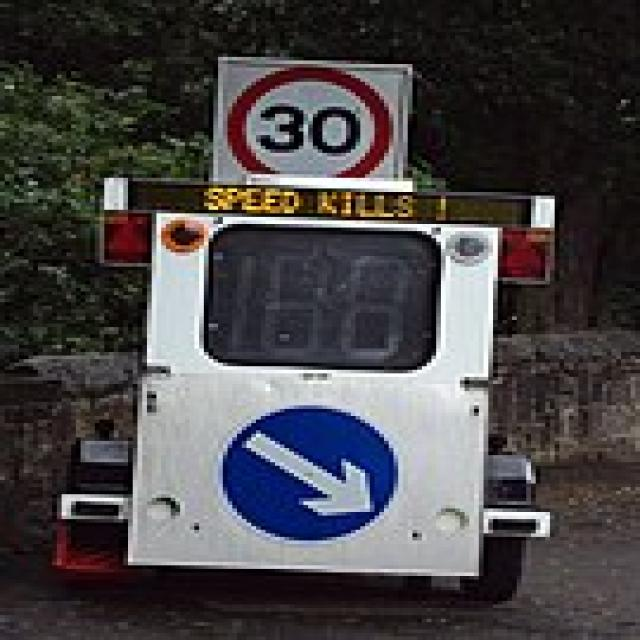Speed Limit -30-: (257, 102, 364, 156)
